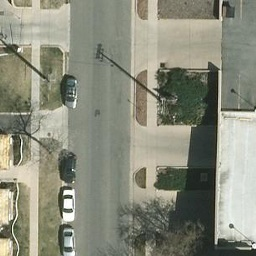car: (60, 188, 76, 223), (61, 152, 79, 183), (62, 75, 78, 108), (61, 228, 75, 256)
